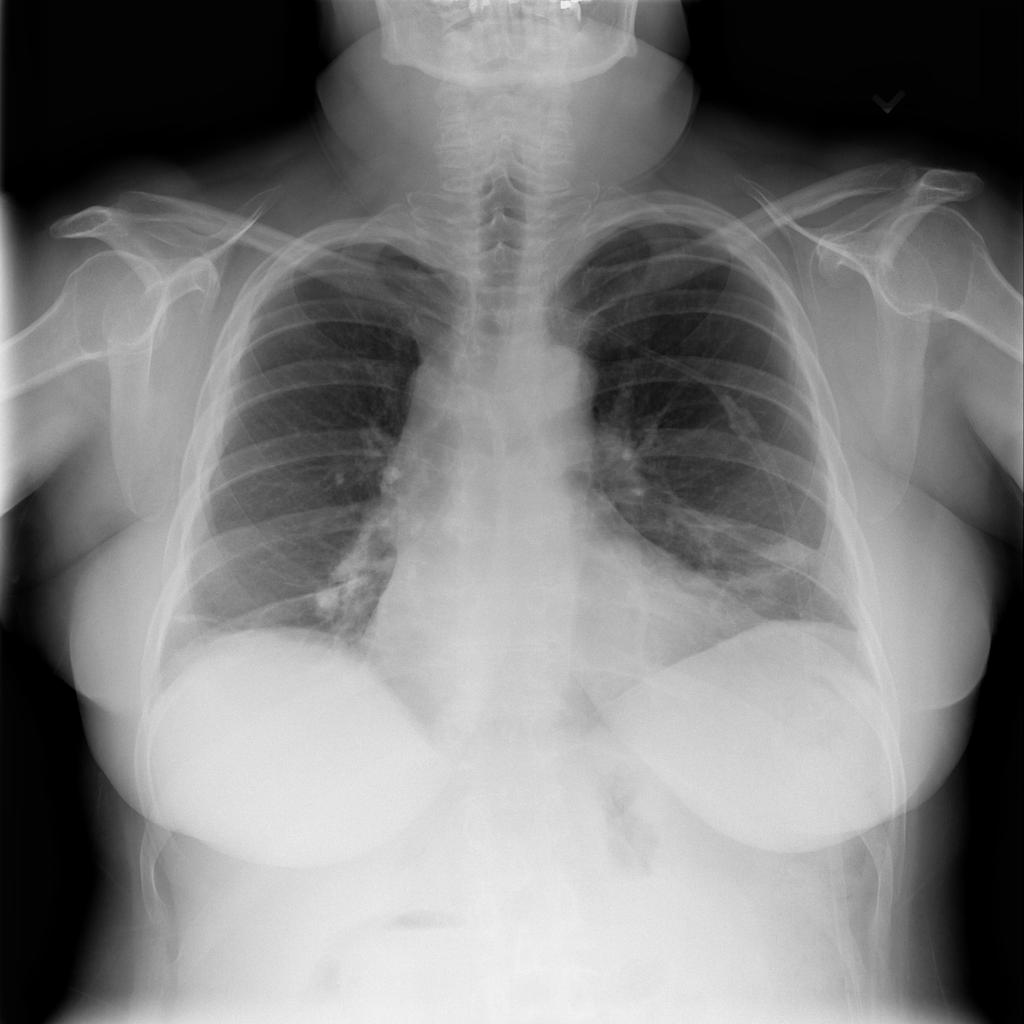nodule: (301, 576, 350, 628)
